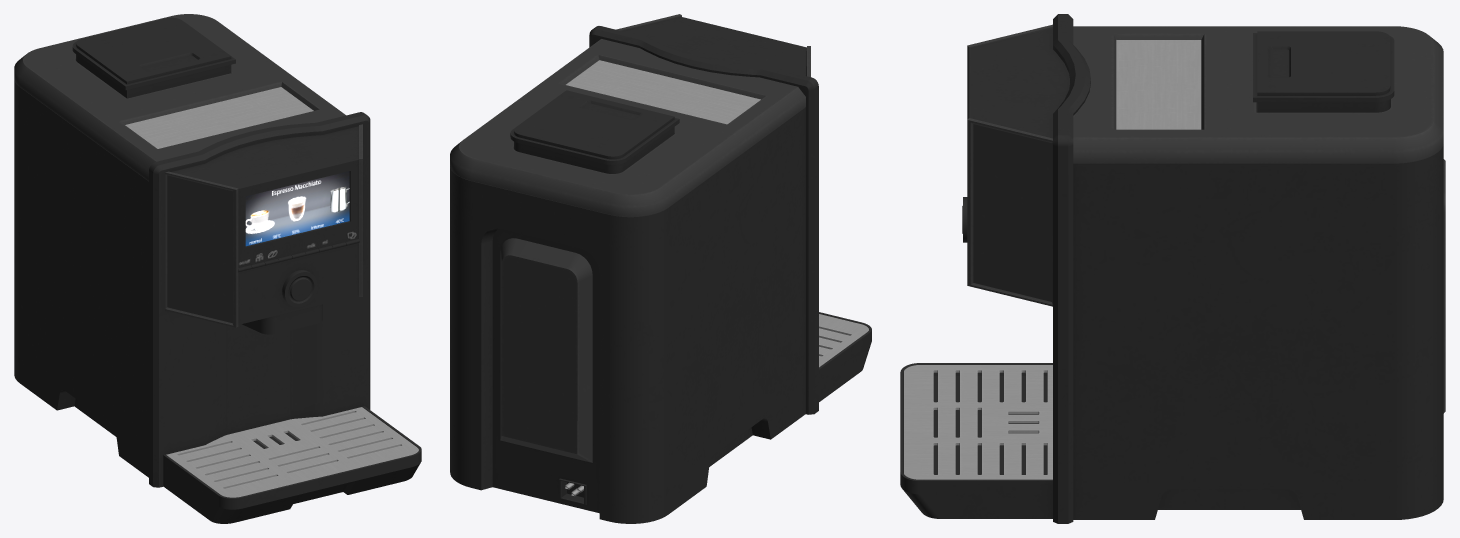
Rendered from coffee_machine.glb.
3 views of the same model, side by side, from view 1: azimuth 30°, elevation 25°; view 2: azimuth 150°, elevation 25°; view 3: azimuth 270°, elevation 25° (orthographic). The views are drawn at different scales.
Parts seen in each view (by area): view 1: Sm_CoffeeMachine; view 2: Sm_CoffeeMachine; view 3: Sm_CoffeeMachine.
Boxes of the visible parts, left/top/right/bottom form: Sm_CoffeeMachine: left=14, top=14, right=421, bottom=523; Sm_CoffeeMachine: left=450, top=14, right=871, bottom=523; Sm_CoffeeMachine: left=900, top=14, right=1445, bottom=523.
Size of the model in its own units: 0.1362 by 0.1982 by 0.2459.
Materials: 2 (2 with a texture image).
